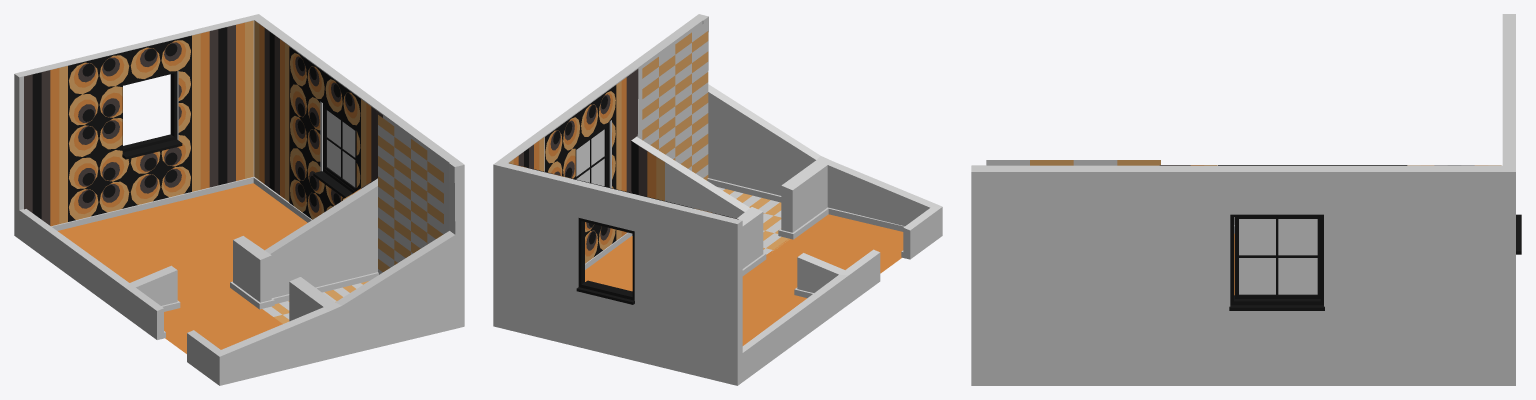
File: SM_Murs_03.fbx
The picture shows the model from 3 angles, left to right: view 1: azimuth 30°, elevation 25°; view 2: azimuth 150°, elevation 25°; view 3: azimuth 270°, elevation 25°; orthographic projection. The views are drawn at different scales.
Visible parts, largest first — view 1: Plane.013, Murs 03, Plane.009, M_Fenetre_Mur03, SM_CadreFentre_Mur03.001, Plane.005, SM_CadreFentre_Mur03; view 2: Murs 03, Plane.013, Plane.009, M_Fenetre_Mur03, SM_CadreFentre_Mur03.001, Plane.005; view 3: Murs 03, M_Fenetre_Mur03, SM_CadreFentre_Mur03, Plane.013.
Boxes of the visible parts, bbox=[...] form: Plane.013: bbox=[24, 20, 443, 274]; Murs 03: bbox=[14, 14, 464, 385]; Plane.009: bbox=[58, 183, 307, 353]; M_Fenetre_Mur03: bbox=[324, 106, 356, 191]; SM_CadreFentre_Mur03.001: bbox=[122, 71, 182, 159]; Plane.005: bbox=[262, 281, 368, 323]; SM_CadreFentre_Mur03: bbox=[313, 103, 356, 198]; Murs 03: bbox=[493, 14, 942, 385]; Plane.013: bbox=[509, 20, 738, 263]; Plane.009: bbox=[585, 214, 903, 345]; M_Fenetre_Mur03: bbox=[575, 124, 607, 186]; SM_CadreFentre_Mur03.001: bbox=[576, 218, 634, 304]; Plane.005: bbox=[717, 187, 789, 254]; Murs 03: bbox=[971, 14, 1515, 385]; M_Fenetre_Mur03: bbox=[1234, 217, 1320, 298]; SM_CadreFentre_Mur03: bbox=[1229, 214, 1324, 310]; Plane.013: bbox=[986, 160, 1501, 165].
Size of the model in its own units: 582 by 397 by 254.
